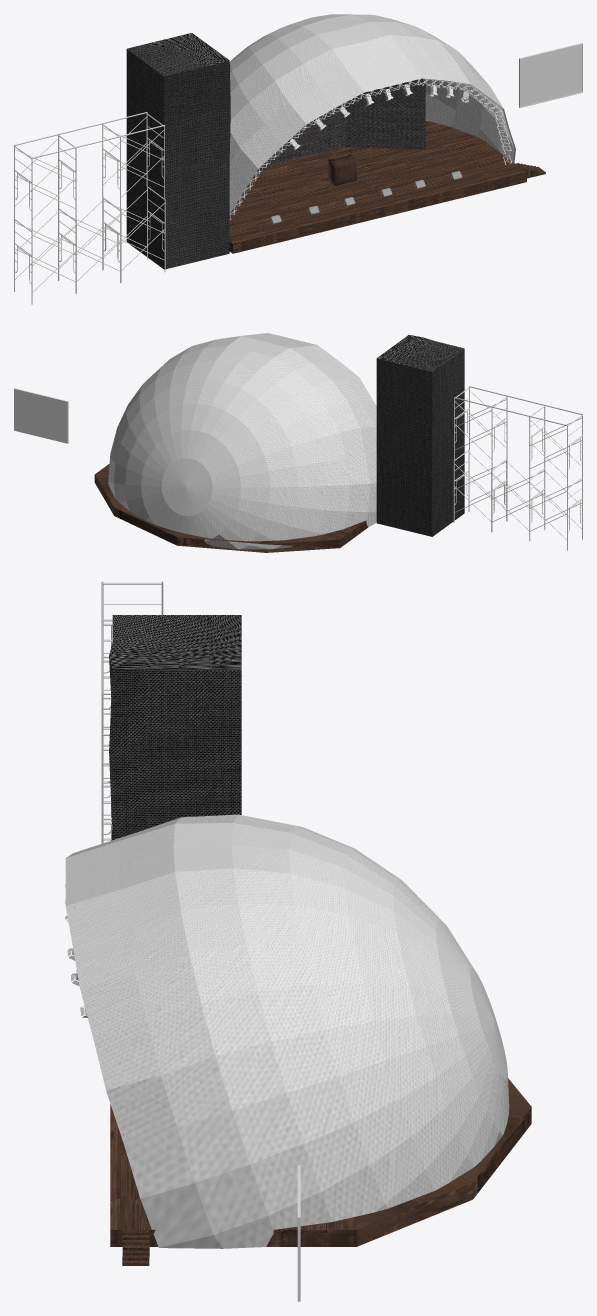
The model's file is Primavera.fbx.
3 views of the same model, one above another, from view 1: azimuth 30°, elevation 25°; view 2: azimuth 150°, elevation 25°; view 3: azimuth 270°, elevation 25° (orthographic). The views are drawn at different scales.
Parts seen in each view (by area): view 1: Sphere, Cube.002, Cube, pCube135, pCube135.005, steel_scaffolding.004, steel_scaffolding.003, steel_scaffolding.002, steel_scaffolding, steel_scaffolding.001, Cube.001, pCube135.002; view 2: Sphere, Cube.002, Cube, pCube135.002, steel_scaffolding.002, steel_scaffolding.004, steel_scaffolding.003, steel_scaffolding, steel_scaffolding.001; view 3: Sphere, Cube.002, Cube, pCube135.004.
Boxes of the visible parts, x1,y1,x2,y2 form: Sphere: [229, 14, 515, 213]; Cube.002: [126, 33, 230, 269]; Cube: [229, 120, 526, 253]; pCube135: [253, 78, 425, 177]; pCube135.005: [520, 44, 581, 106]; steel_scaffolding.004: [102, 113, 164, 209]; steel_scaffolding.003: [14, 134, 76, 231]; steel_scaffolding.002: [14, 208, 76, 304]; steel_scaffolding: [103, 186, 165, 282]; steel_scaffolding.001: [59, 197, 120, 293]; Cube.001: [328, 154, 356, 185]; pCube135.002: [519, 43, 582, 107]; Sphere: [108, 333, 376, 549]; Cube.002: [376, 335, 464, 536]; Cube: [94, 464, 367, 552]; pCube135.002: [14, 388, 68, 443]; steel_scaffolding.002: [529, 468, 582, 550]; steel_scaffolding.004: [454, 387, 507, 469]; steel_scaffolding.003: [529, 405, 582, 487]; steel_scaffolding: [453, 449, 506, 531]; steel_scaffolding.001: [491, 458, 544, 540]; Sphere: [65, 814, 509, 1248]; Cube.002: [109, 615, 241, 840]; Cube: [110, 1078, 531, 1246]; pCube135.004: [122, 1230, 149, 1265].
Bounding box in the file's own units: 5655 × 1747 × 2199.
